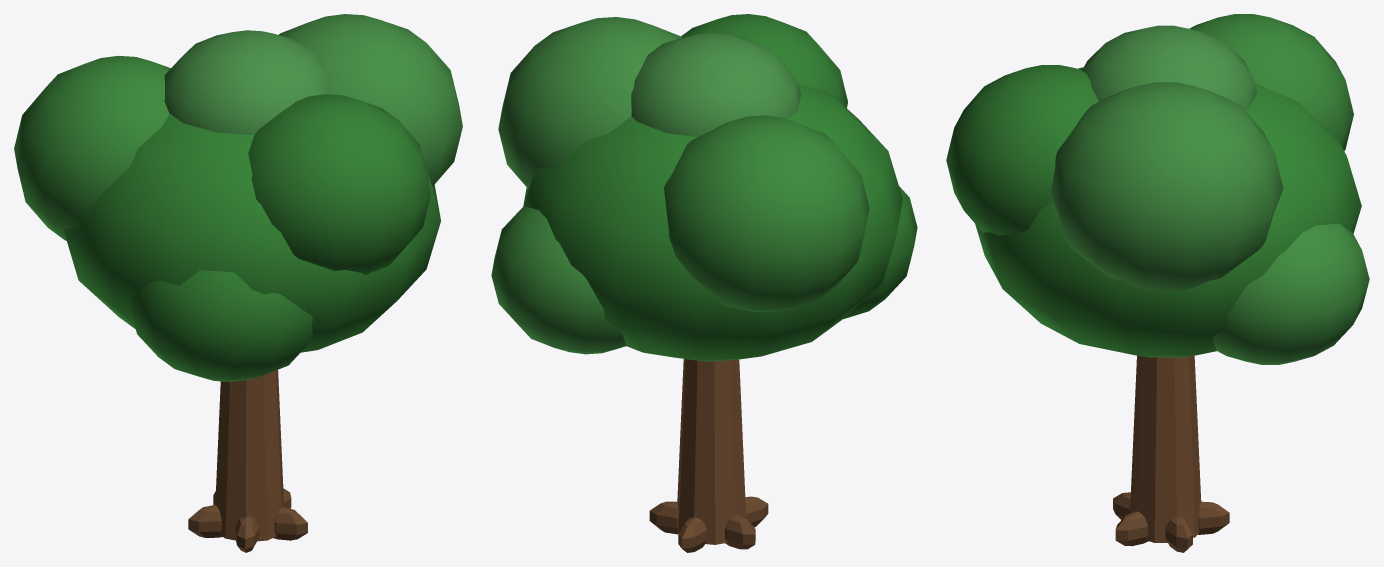
The model's file is Planta_Cacao.fbx.
The picture shows the model from 3 angles, left to right: view 1: azimuth 30°, elevation 25°; view 2: azimuth 150°, elevation 25°; view 3: azimuth 270°, elevation 25°; orthographic projection.
Visible parts, largest first — view 1: Corpo_Cacao; view 2: Corpo_Cacao; view 3: Corpo_Cacao.
Part boxes in pixels (bbox=[...]): Corpo_Cacao: bbox=[14, 14, 462, 552]; Corpo_Cacao: bbox=[491, 14, 917, 552]; Corpo_Cacao: bbox=[946, 14, 1369, 552].
Size of the model in its own units: 5.06 by 6.33 by 4.86.
Materials: 1 (1 with a texture image).
